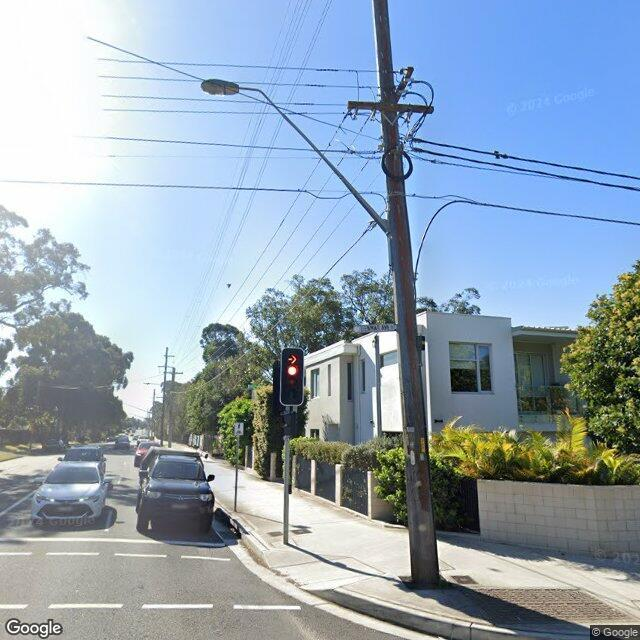crossarm: (348, 101, 434, 116), (393, 67, 415, 104), (164, 354, 175, 358), (164, 372, 183, 374), (158, 365, 172, 367)
steel-pole: (282, 406, 290, 544)
streetlight: (200, 80, 390, 237), (142, 382, 162, 387)
timber-pole: (373, 1, 441, 590), (161, 347, 168, 446), (172, 367, 176, 382)
traffic-light: (280, 349, 305, 407)
